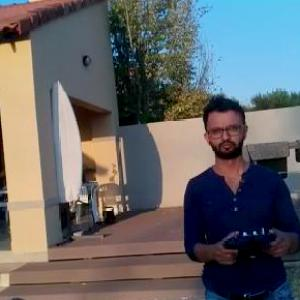follow: (178, 94, 300, 299)
